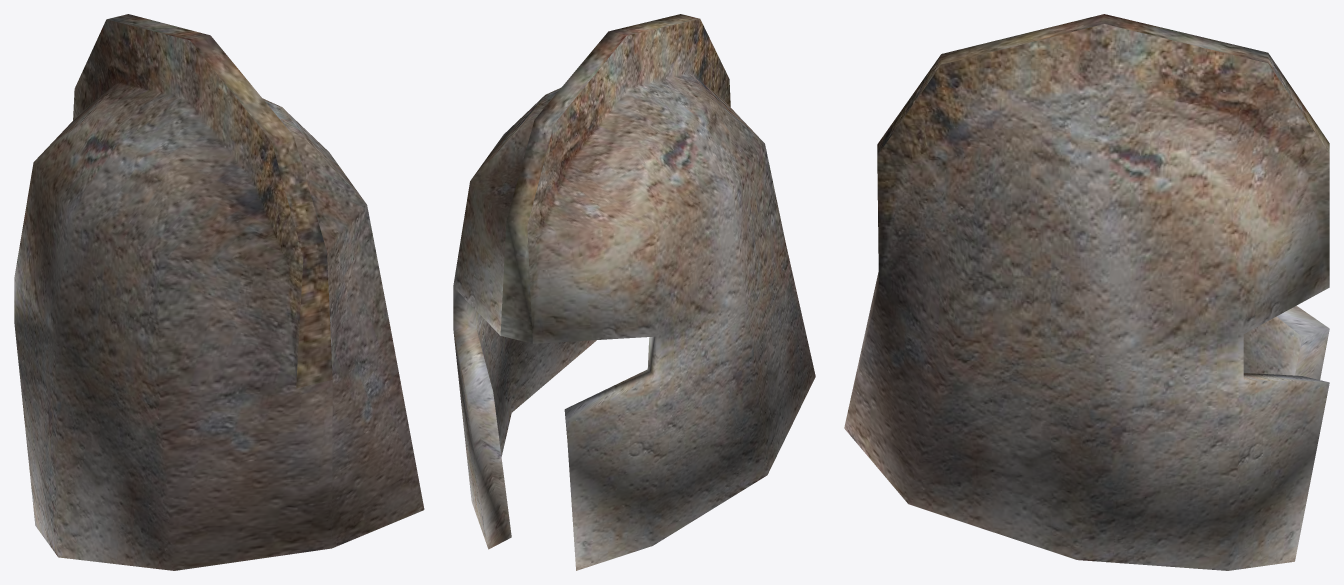
The model's file is head_helmet.glb.
3 views of the same model, side by side, from view 1: azimuth 30°, elevation 25°; view 2: azimuth 150°, elevation 25°; view 3: azimuth 270°, elevation 25° (orthographic). The views are drawn at different scales.
Parts seen in each view (by area): view 1: helmet; view 2: helmet; view 3: helmet.
Part boxes in pixels (<box>): helmet: <box>14,14,424,570</box>; helmet: <box>453,14,815,570</box>; helmet: <box>844,14,1329,570</box>.
Bounding box in the file's own units: 0.2101 × 0.3382 × 0.2869.
1 material, 1 textured.
